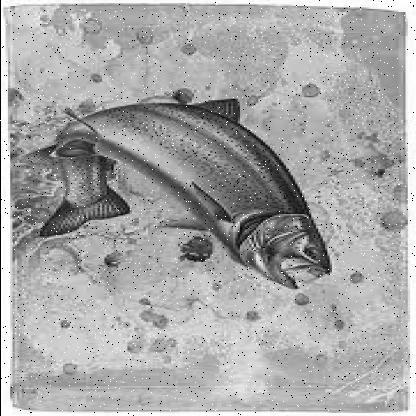fish: (23, 96, 336, 286)
